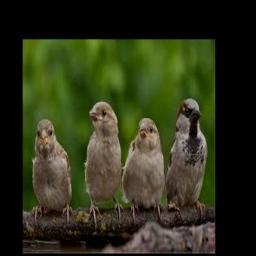Sparrow: (166, 97, 208, 218), (85, 101, 123, 227), (32, 119, 73, 226), (122, 117, 165, 217)
